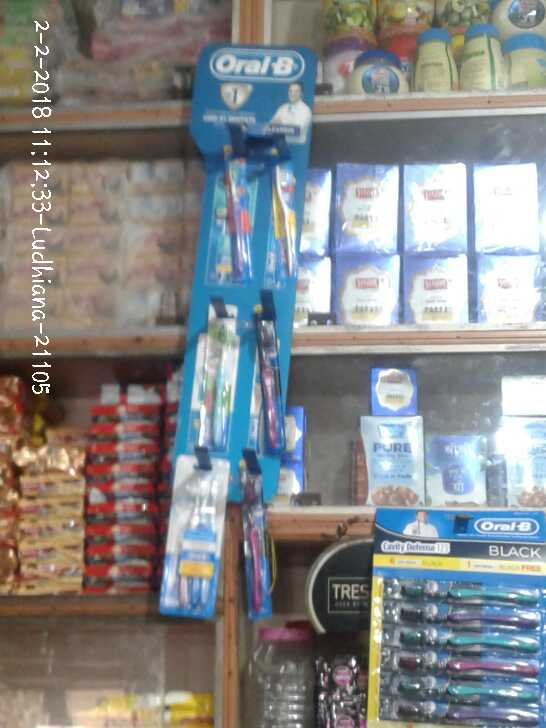oralb: (173, 477, 221, 611), (215, 151, 260, 289), (394, 565, 540, 606), (269, 147, 309, 289), (199, 308, 236, 457), (369, 699, 546, 728), (252, 308, 288, 450), (394, 644, 545, 675), (392, 596, 540, 626), (390, 628, 546, 655), (242, 477, 269, 616), (379, 673, 540, 696)
